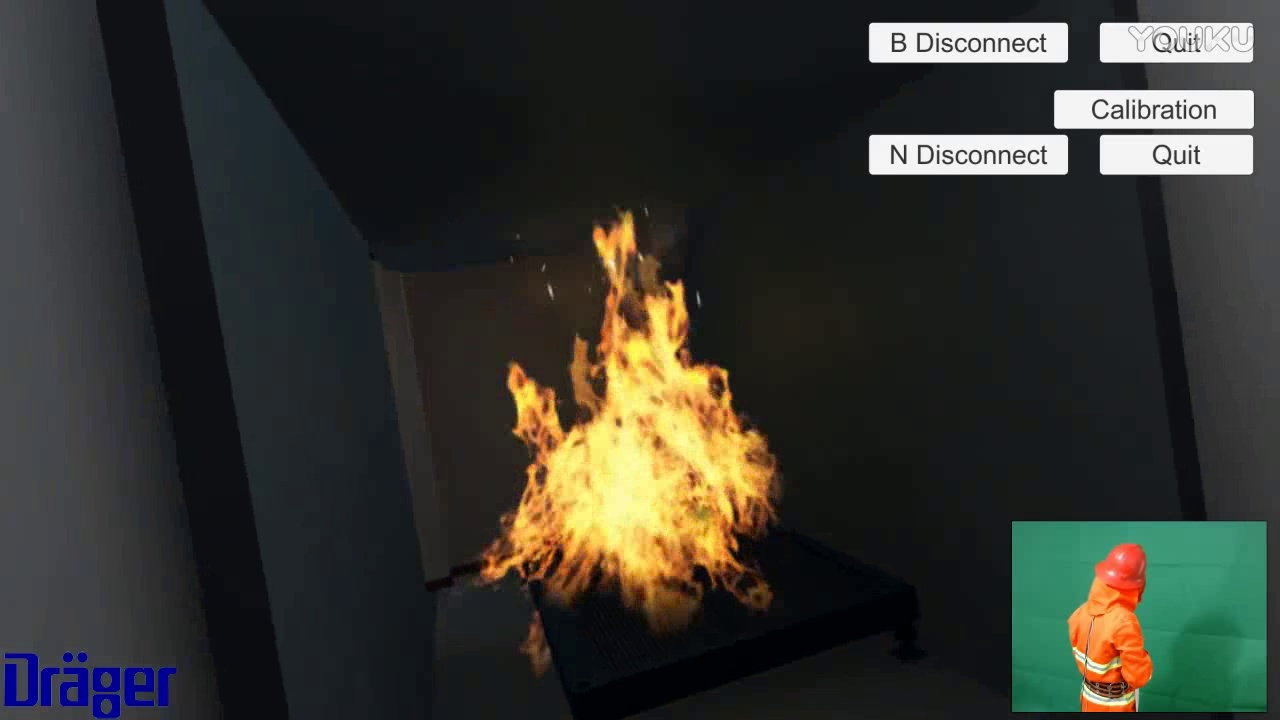fire: (447, 211, 781, 626)
